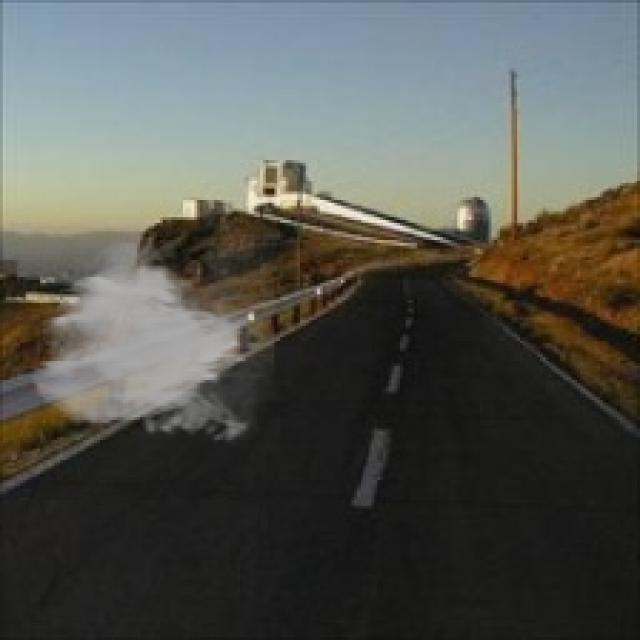Smoke: (28, 234, 274, 449)
